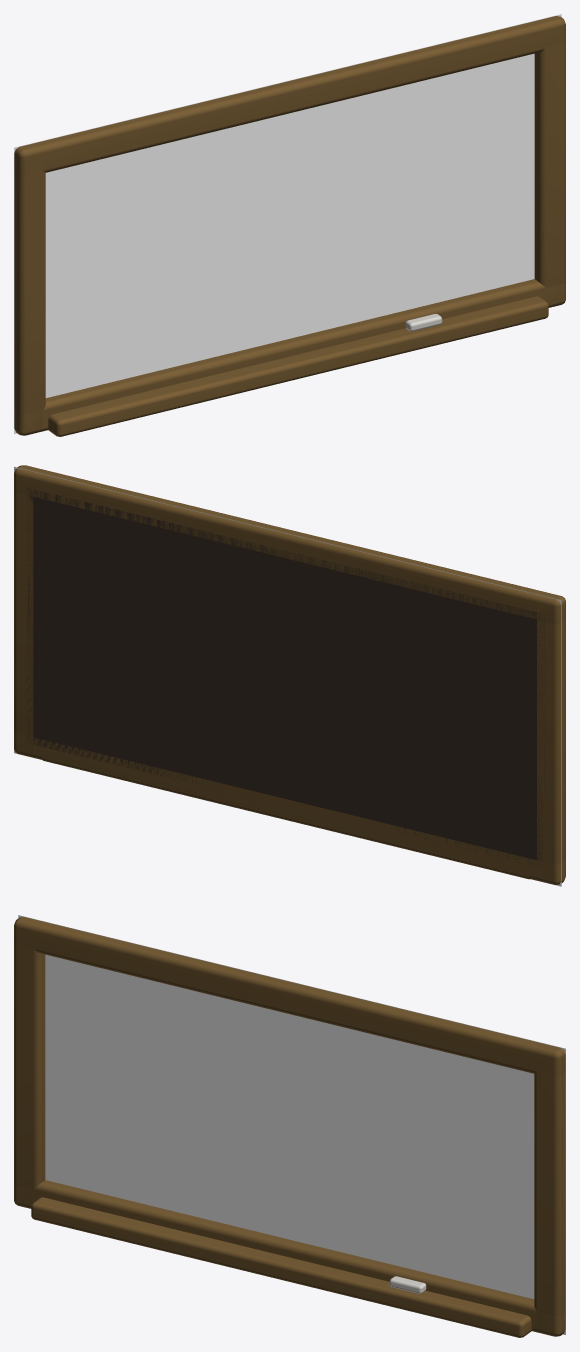
The model's file is furn_chalkboard.glb.
3 views of the same model, one above another, from view 1: azimuth 30°, elevation 25°; view 2: azimuth 150°, elevation 25°; view 3: azimuth 330°, elevation 25° (orthographic).
Parts seen in each view (by area): view 1: furn_chalkboard_pic, furn_chalkboard_main; view 2: furn_chalkboard_main, furn_chalkboard_pic; view 3: furn_chalkboard_pic, furn_chalkboard_main.
Part boxes in pixels (x1,y1,x2,y2): furn_chalkboard_pic: (14, 14, 561, 433); furn_chalkboard_main: (14, 16, 565, 436); furn_chalkboard_main: (14, 465, 565, 884); furn_chalkboard_pic: (14, 466, 561, 886); furn_chalkboard_pic: (18, 915, 565, 1334); furn_chalkboard_main: (14, 917, 565, 1337).
Size of the model in its own units: 2 by 1 by 0.12.
